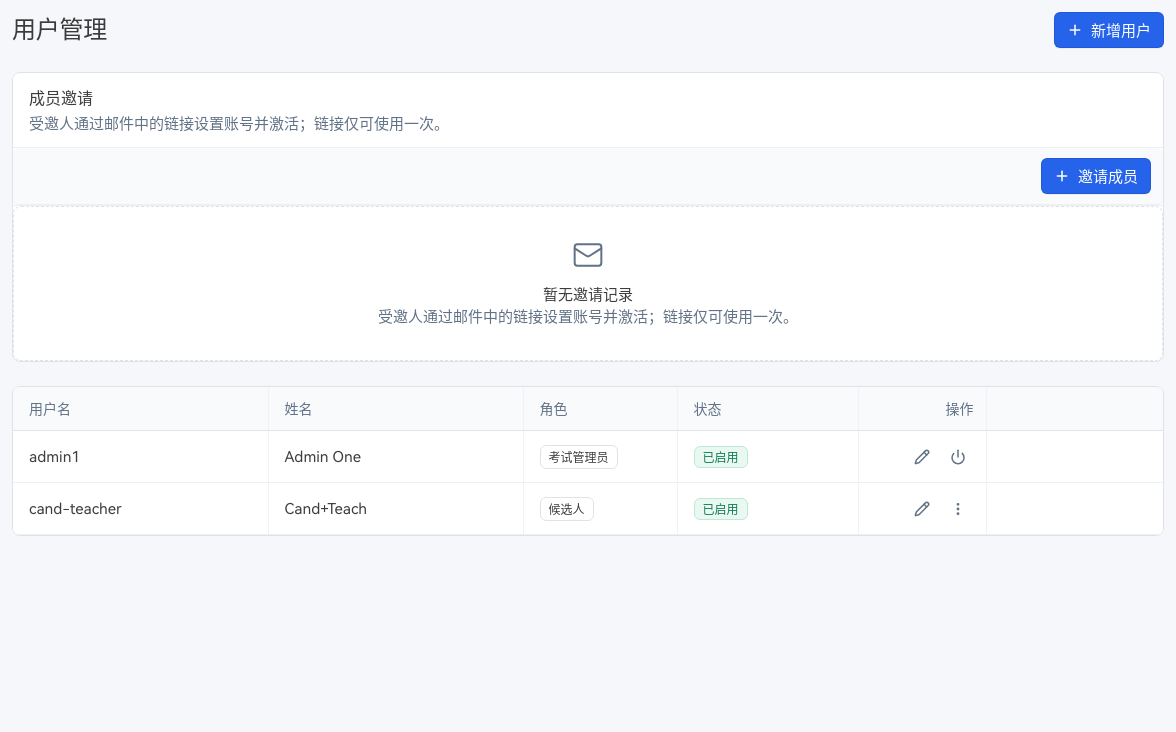
Test: UsersPage › Teacher course-assignment affordance (issue 548) › offers the action for a Candidate-primary + Teacher-secondary target (active-role truth, not users.role)
This screenshot has width=1176, height=732.
Click the button named "更多操作": [958, 508] box x1=942 y1=492 x2=974 y2=524
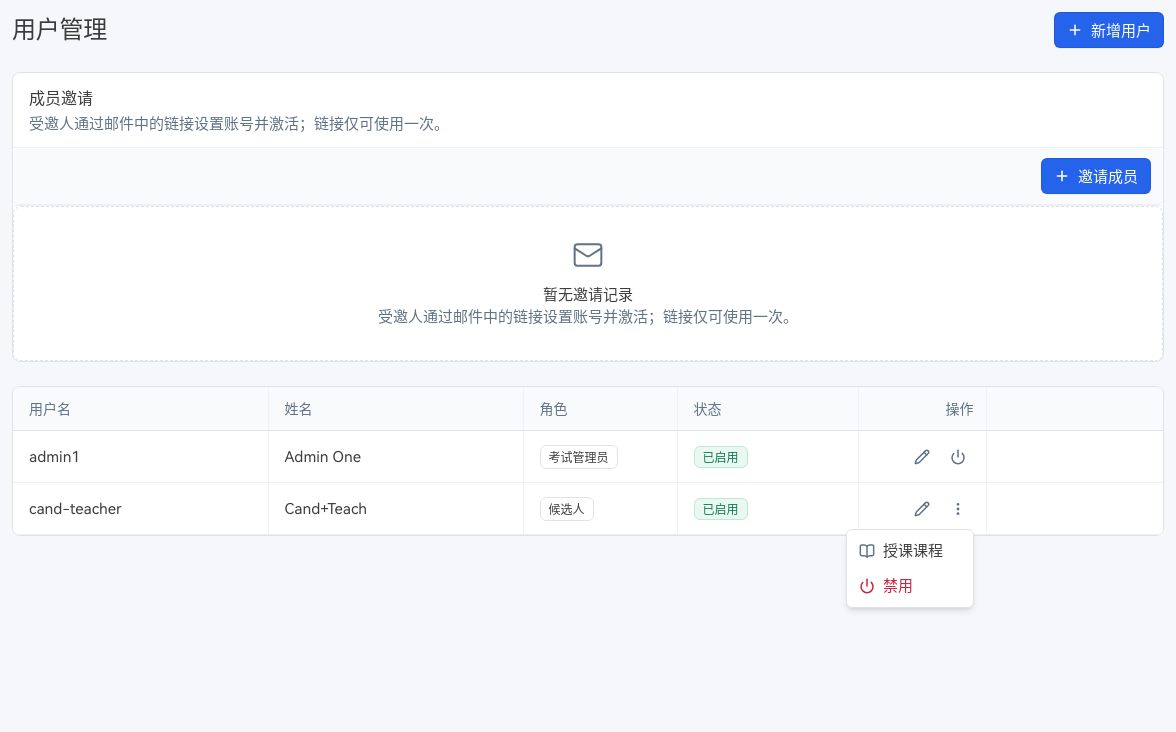
Now the menu item "授课课程" is shown, box x1=859 y1=542 x2=943 y2=560
